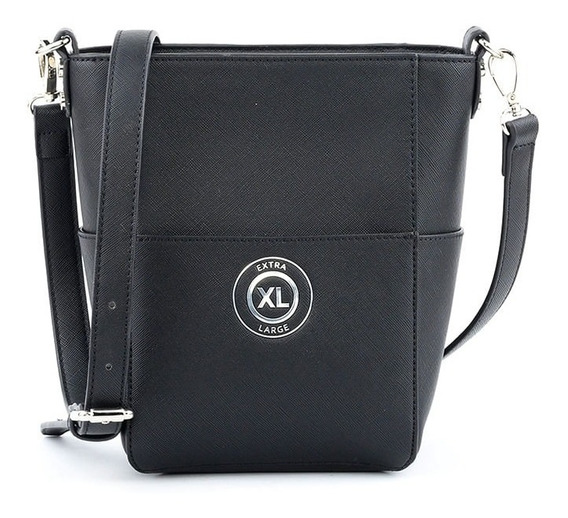cartera: (30, 26, 539, 477)
